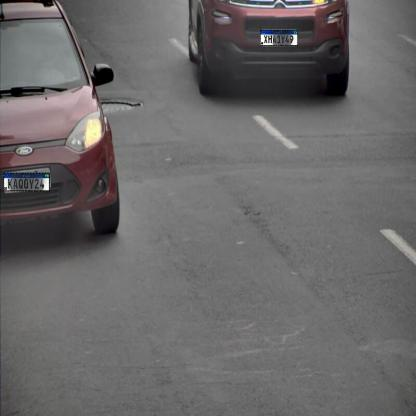PlacaM: (3, 173, 50, 191), (260, 30, 298, 46)
